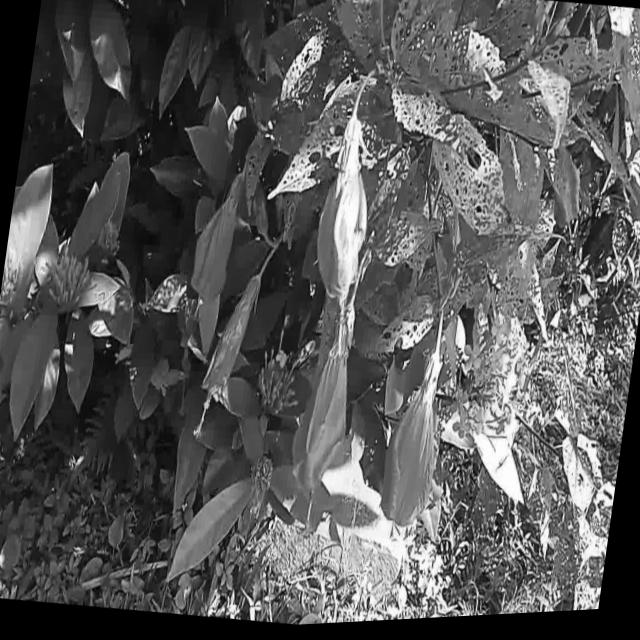Flower: (281, 304, 363, 550), (303, 115, 386, 334), (375, 344, 454, 557), (187, 265, 269, 456), (181, 167, 248, 334), (544, 150, 593, 257), (616, 177, 640, 246)
